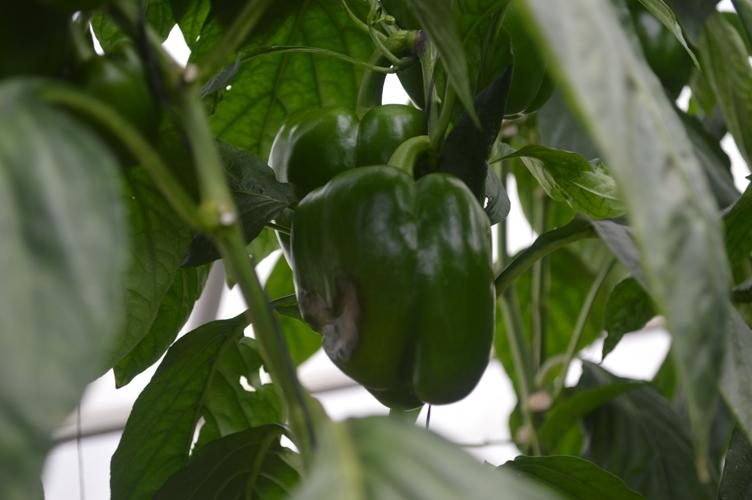BellPepper: (287, 166, 498, 405), (261, 104, 432, 239), (70, 40, 158, 159)
